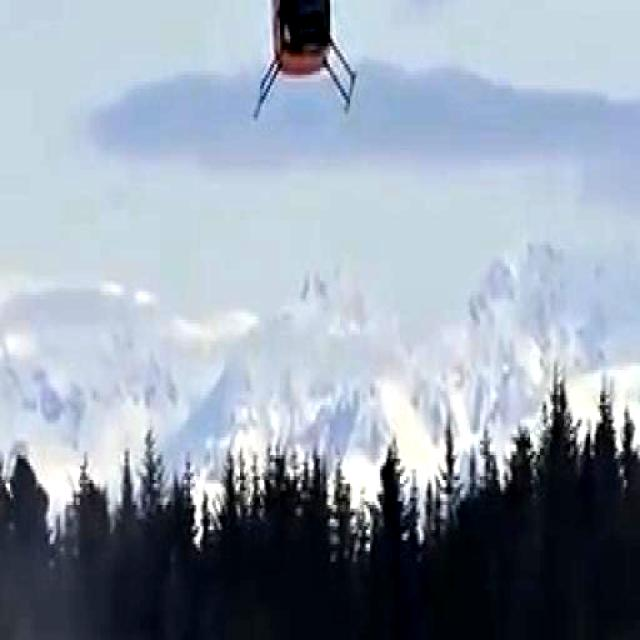drone: (122, 0, 478, 128)
